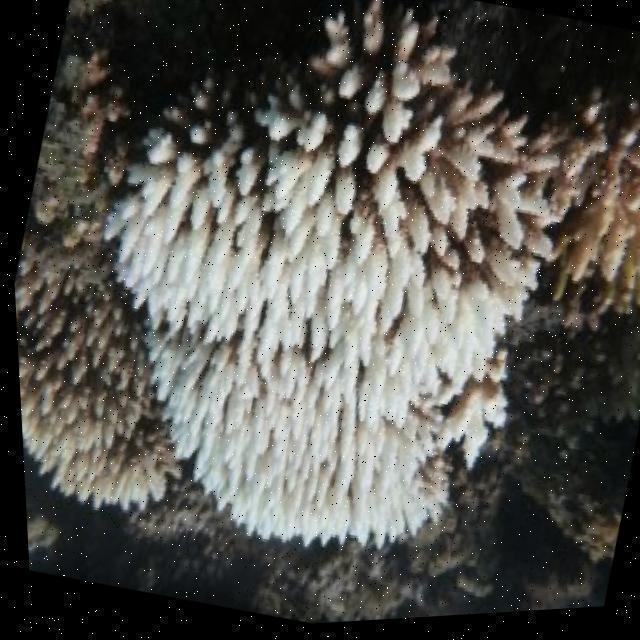Bleached Coral: (139, 0, 597, 537)
